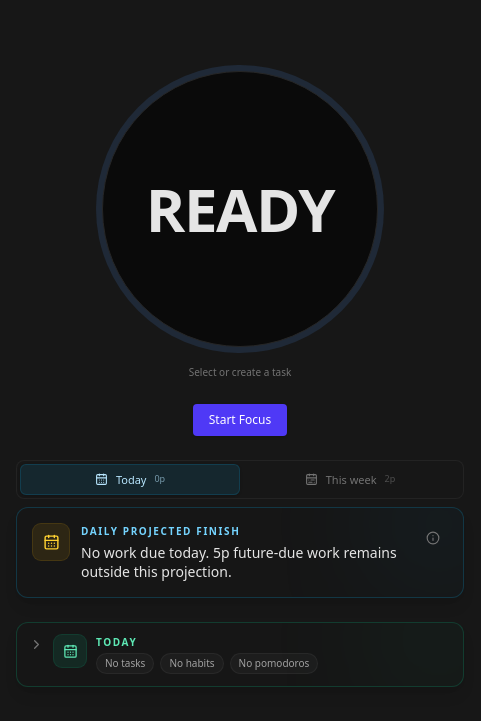
TimerPanel projected finish › includes later-this-week tasks in a distinct weekly projection
Expected: the text "No work due today. 5p future-due work remains outside this projection." is shown, left=81, top=543, right=407, bottom=581
Click the button "This week 2p" at (350, 479), box left=240, top=464, right=460, bottom=495
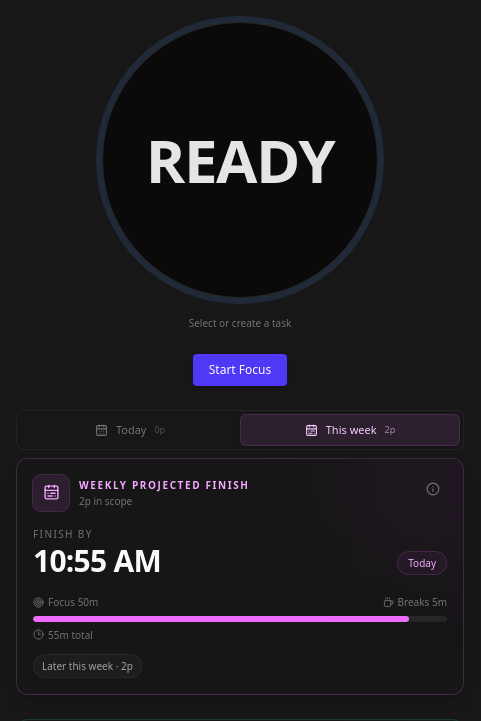
Result: the text "Weekly projected finish" is shown at left=79, top=478, right=250, bottom=492
Result: the text "Later this week · 2p" is shown at left=33, top=654, right=142, bottom=678
